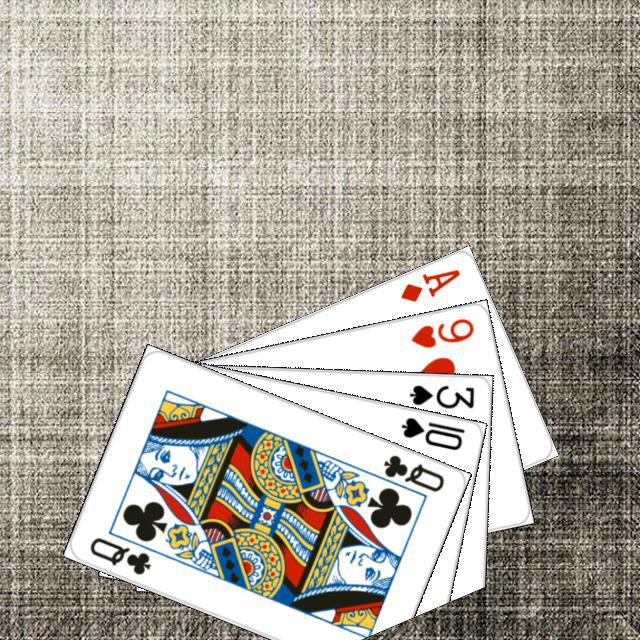10s: (396, 412, 466, 452)
3s: (404, 380, 476, 410)
9h: (405, 313, 476, 350)
Ad: (395, 264, 462, 304)
Qc: (367, 449, 446, 502), (84, 532, 153, 577)
